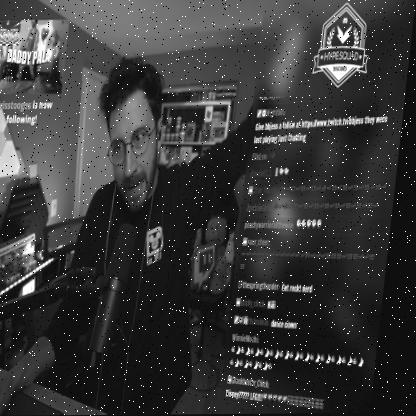donation: (0, 18, 70, 126)
streamer: (0, 0, 316, 416)
